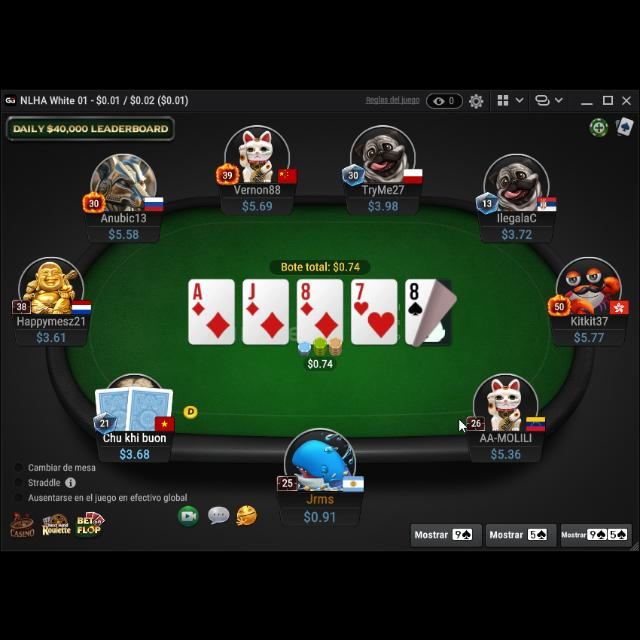6s: (406, 279, 424, 315)
7h: (352, 280, 370, 314)
8d: (299, 278, 315, 316)
8s: (406, 279, 424, 315)
Ad: (192, 280, 206, 314)
Jd: (245, 279, 261, 315)
bet_text: (306, 354, 334, 368)
card_back: (124, 379, 174, 429), (94, 382, 134, 428)
dealer: (182, 401, 198, 417)
pot_text: (280, 258, 362, 270)
stack_text: (302, 504, 336, 522), (106, 223, 140, 239), (574, 327, 606, 341), (490, 443, 522, 457), (501, 224, 533, 238), (119, 443, 151, 457), (242, 196, 274, 210), (367, 196, 399, 210), (35, 326, 65, 340)
